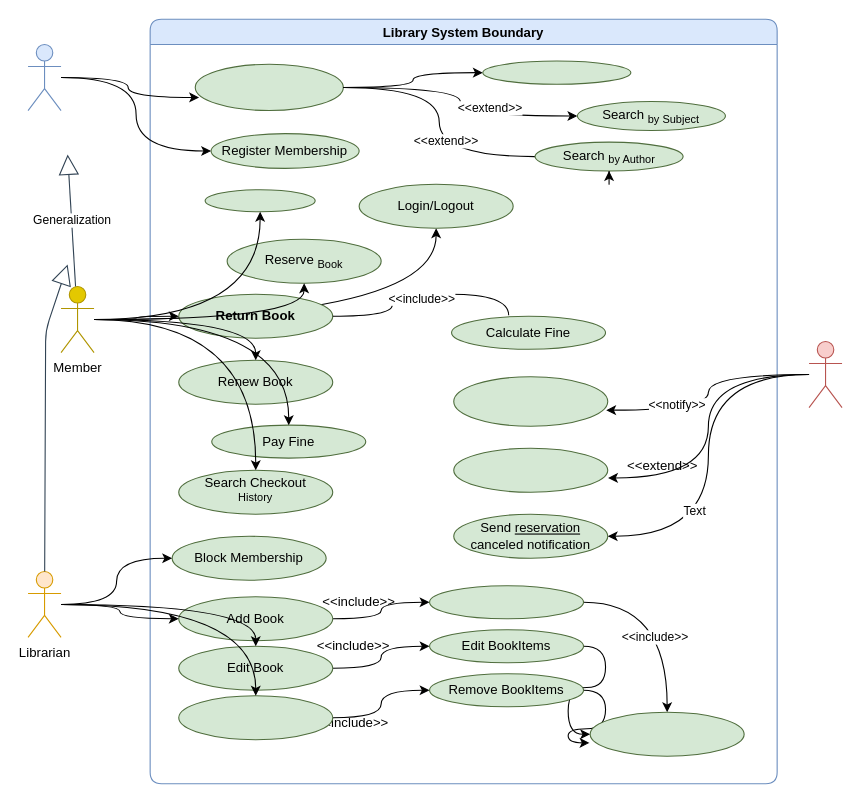
The diagram is 867 pixels wide and 803 high, and some of its shapes have lost their labels. The centre of each missing label's shape, as x and y in pixels:
"Add BookItems" goes at (506,602).
"Checkout Book" goes at (259,200).
"Guest" goes at (44,77).
"Remove Book" goes at (255,717).
"Search by Title" goes at (556,72).
"Search Catalog" goes at (268,87).
"Send availability notification" goes at (530,401).
"Send overdue notification" goes at (530,469).
"System" goes at (825,374).
"Update Catalog" goes at (666,733).
